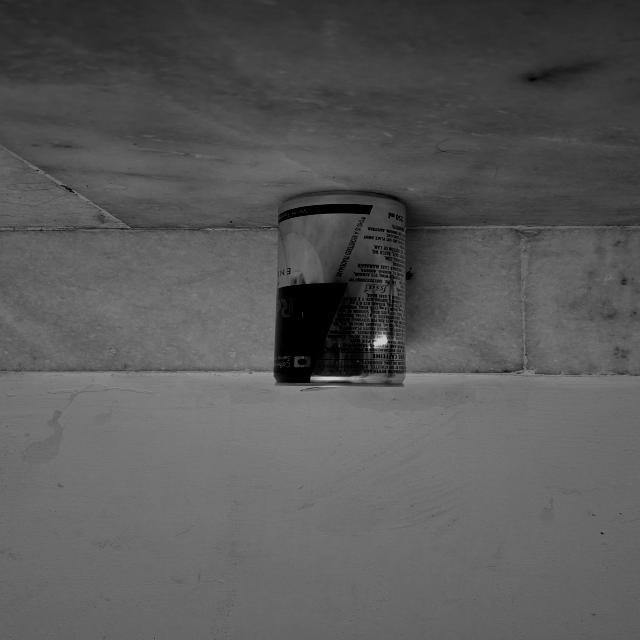Redbul: (270, 192, 420, 390)
